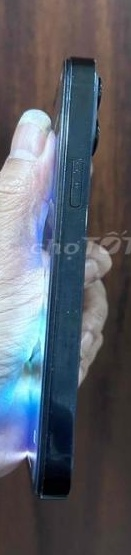scratch: (48, 293, 101, 395), (56, 120, 101, 226)
